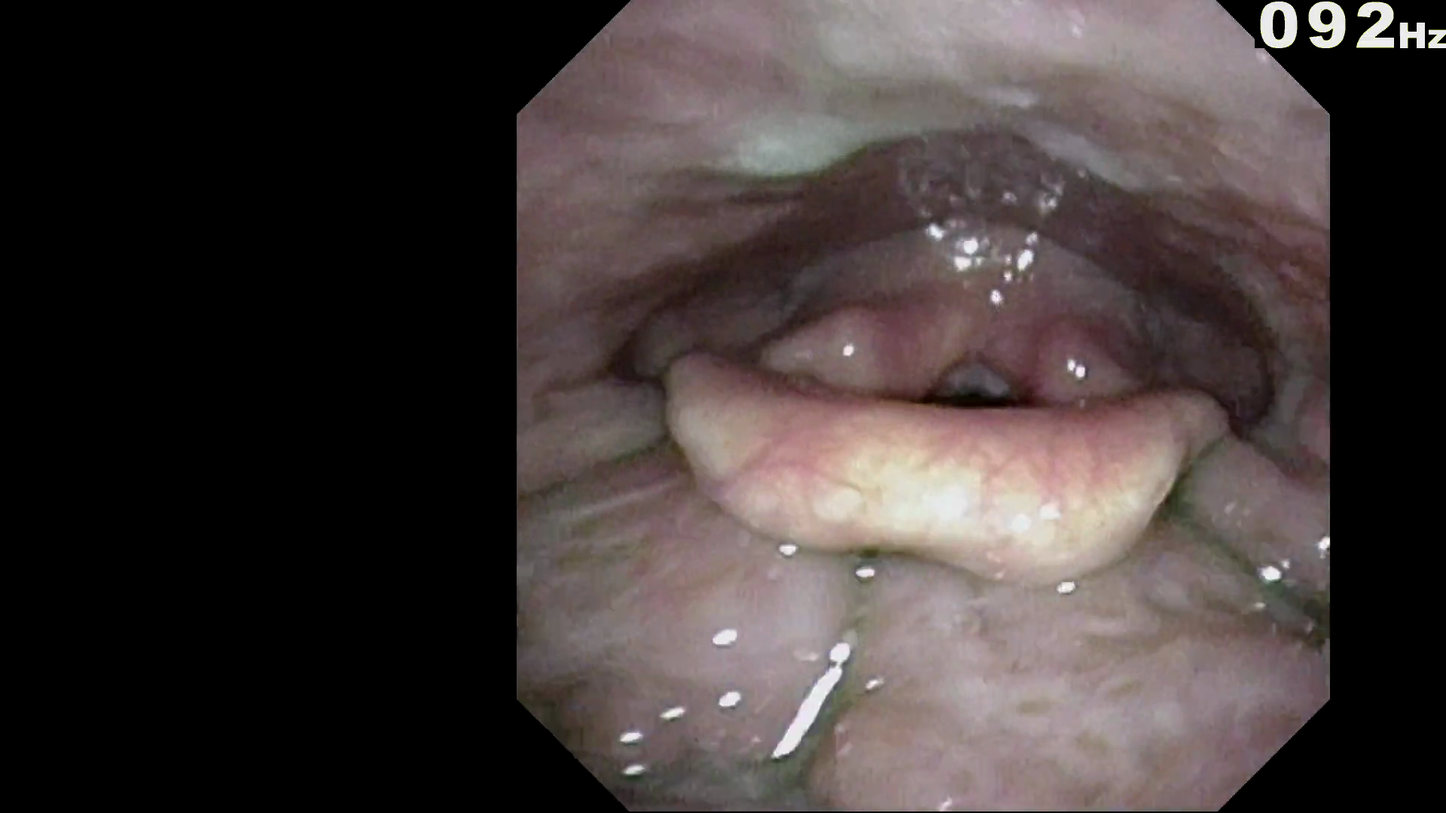epiglottis: (634, 392, 1246, 583)
trachea: (911, 371, 1037, 448)
